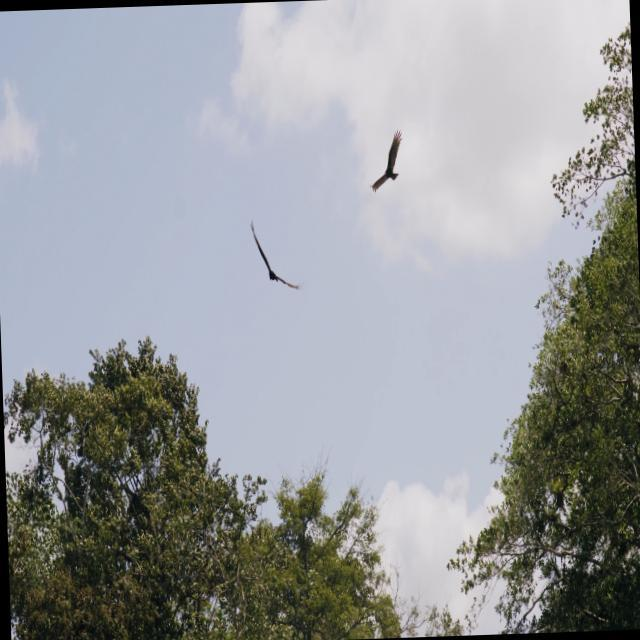bird: (248, 214, 307, 295), (366, 126, 406, 195)
